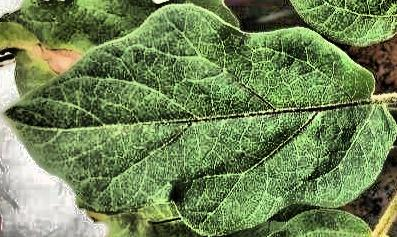HEALTHY: (0, 1, 397, 237)
